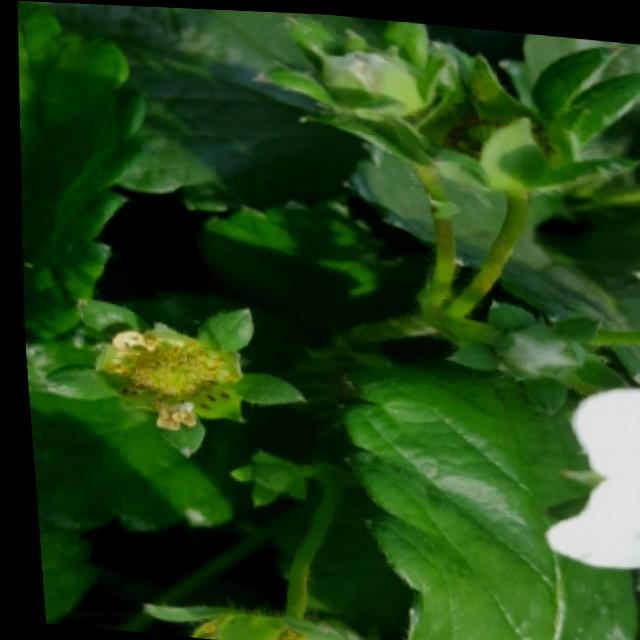Blossom Blight: (88, 327, 227, 438)
